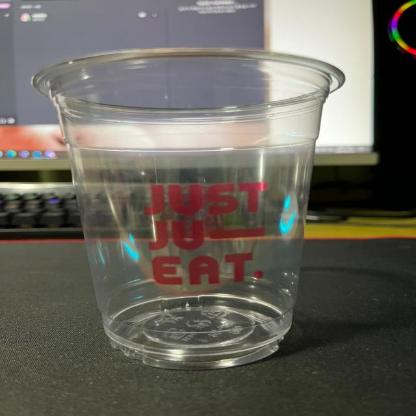Plastic Cup: (34, 46, 348, 372)
